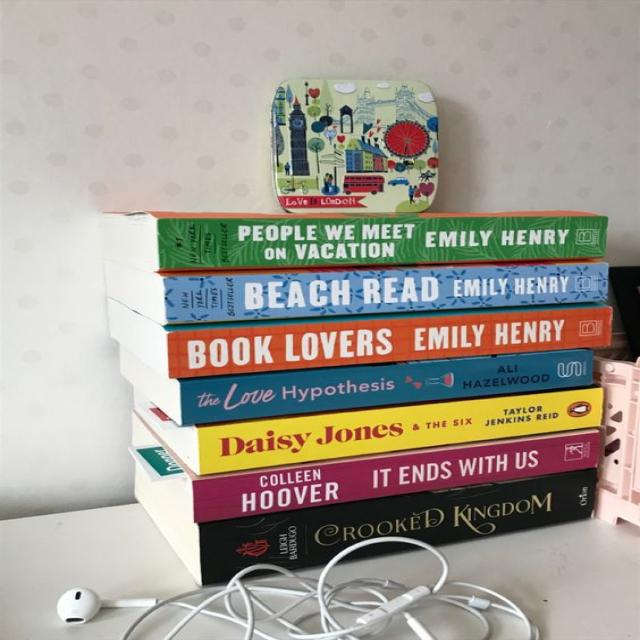book: (199, 471, 598, 585), (194, 432, 600, 522), (198, 388, 602, 476), (155, 306, 610, 378), (171, 351, 593, 426), (164, 264, 608, 321), (159, 215, 605, 270)
